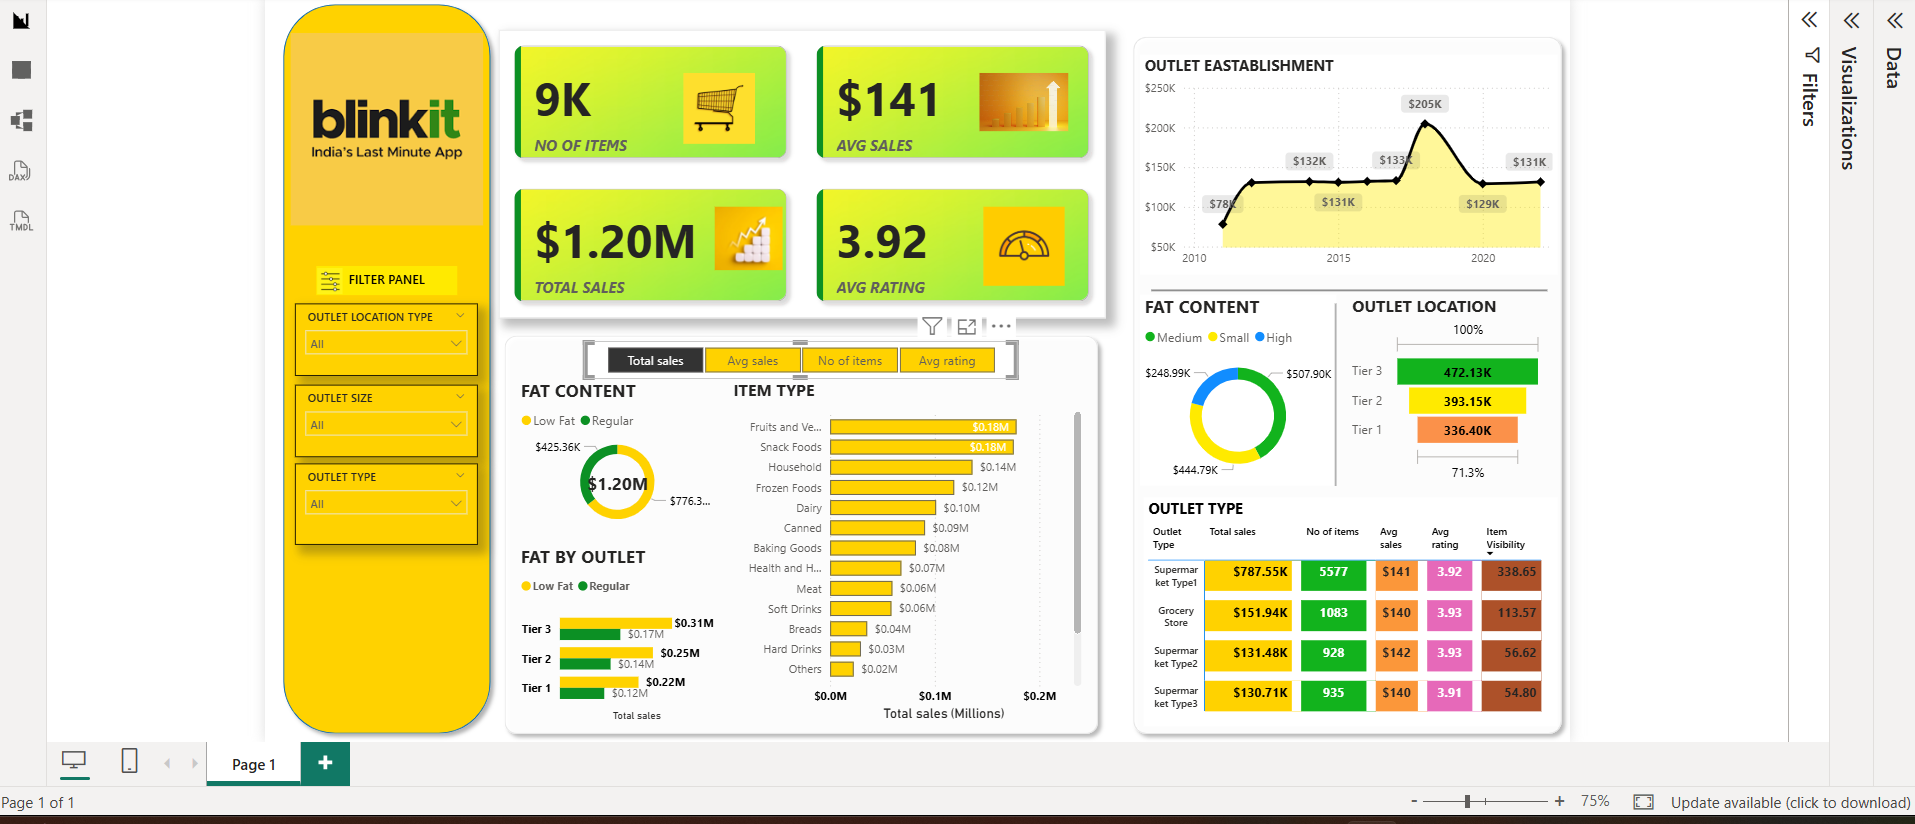

The dashboard page shown, as its layout file describes it:
{"tool":"powerbi","page":{"name":"Page 1","canvas":[1400,800],"ordinal":0},"visuals":[{"type":"shape","box":[10.5,0,240.1,800],"z":0},{"type":"image","box":[10.5,34.5,240.1,216.1],"z":1000},{"type":"cardVisual","fields":{"Data":["BlinkIT Grocery Data.No of items","BlinkIT Grocery Data.Avg sales","BlinkIT Grocery Data.Total sales","BlinkIT Grocery Data.Avg rating"]},"box":[250.6,36,651.4,309.2],"z":2000},{"type":"image","box":[475.9,221.2,85.8,77.7],"z":3000},{"type":"image","box":[426.2,78,121.6,85.5],"z":4000},{"type":"image","box":[760.9,78,105.1,72],"z":5000},{"type":"image","box":[735.4,220.6,156.1,94.6],"z":6000},{"type":"shape","box":[248,355.2,654.2,445],"z":7000},{"type":"donutChart","title":"FAT CONTENT","fields":{"Y":["BlinkIT Grocery Data.No of items"],"Category":["BlinkIT Grocery Data.Item Fat Content"]},"box":[269.4,410.2,217.2,167.6],"z":8000},{"type":"card","fields":{"Values":["BlinkIT Grocery Data.Total sales"]},"box":[323.1,494.6,111.3,60.3],"z":9000},{"type":"clusteredBarChart","title":"FAT BY OUTLET","fields":{"Y":["BlinkIT Grocery Data.No of items"],"Series":["BlinkIT Grocery Data.Item Fat Content"],"Category":["BlinkIT Grocery Data.Outlet Location Type"]},"box":[269.4,588.5,217.2,194.4],"z":10000},{"type":"barChart","title":"ITEM TYPE","fields":{"Y":["BlinkIT Grocery Data.No of items"],"Category":["BlinkIT Grocery Data.Item Type"]},"box":[497.3,410.2,383.4,372.7],"z":11000},{"type":"slicer","fields":{"Values":["metrics 3.metrics"]},"box":[341.8,370,465.1,40.2],"z":12000},{"type":"shape","box":[922.3,34.9,477.2,765.4],"z":13000},{"type":"lineChart","title":"OUTLET EASTABLISHMENT","fields":{"Category":["BlinkIT Grocery Data.Outlet Establishment Year"],"Y":["BlinkIT Grocery Data.Total sales"]},"box":[938.3,63,447.7,235.9],"z":14000},{"type":"shape","box":[950.4,166.2,424.9,298.9],"z":15000},{"type":"donutChart","title":"FAT CONTENT","fields":{"Y":["BlinkIT Grocery Data.No of items"],"Category":["BlinkIT Grocery Data.Outlet Size"]},"box":[938.3,320.4,210.5,205.1],"z":16000},{"type":"shape","box":[998.7,329.8,298.9,195.7],"z":17000},{"type":"funnel","title":"OUTLET LOCATION","fields":{"Category":["BlinkIT Grocery Data.Outlet Location Type"],"Y":["Sum(BlinkIT Grocery Data.Sales)"]},"box":[1160.9,320.4,214.5,205.1],"z":18000},{"type":"shape","box":[951.7,410.2,424.9,298.9],"z":19000},{"type":"pivotTable","title":"OUTLET TYPE","fields":{"Rows":["BlinkIT Grocery Data.Outlet Type"],"Values":["BlinkIT Grocery Data.Total sales","BlinkIT Grocery Data.No of items","BlinkIT Grocery Data.Avg sales","BlinkIT Grocery Data.Avg rating","Sum(BlinkIT Grocery Data.Item Visibility)"]},"box":[942.4,537.5,443.7,245.3],"z":20000},{"type":"slicer","fields":{"Values":["BlinkIT Grocery Data.Outlet Location Type"]},"box":[32.2,329.8,195.7,77.7],"z":21000},{"type":"slicer","fields":{"Values":["BlinkIT Grocery Data.Outlet Size"]},"box":[32.2,416.9,195.7,77.7],"z":22000},{"type":"slicer","fields":{"Values":["BlinkIT Grocery Data.Item Type"]},"box":[32.2,501.3,195.7,87.1],"z":23000},{"type":"textbox","box":[55,289.5,151.5,30.8],"z":24000},{"type":"image","box":[41.6,286.9,56.3,37.5],"z":25000}]}

Visuals, with their boxes on the page's 1400x800 design canvas (x1, y1, x2, y2). These are canvas units, not pixel positions in the 1915x824 screenshot, which may show the page scaled, cropped or inside an application window:
shape: 10/0/251/800
image: 10/34/251/251
cardVisual - BlinkIT Grocery Data.No of items x BlinkIT Grocery Data.Avg sales: 251/36/902/345
image: 476/221/562/299
image: 426/78/548/164
image: 761/78/866/150
image: 735/221/892/315
shape: 248/355/902/800
"FAT CONTENT" donutChart: 269/410/487/578
card - BlinkIT Grocery Data.Total sales: 323/495/434/555
"FAT BY OUTLET" clusteredBarChart: 269/588/487/783
"ITEM TYPE" barChart: 497/410/881/783
slicer - metrics 3.metrics: 342/370/807/410
shape: 922/35/1400/800
"OUTLET EASTABLISHMENT" lineChart: 938/63/1386/299
shape: 950/166/1375/465
"FAT CONTENT" donutChart: 938/320/1149/526
shape: 999/330/1298/526
"OUTLET LOCATION" funnel: 1161/320/1375/526
shape: 952/410/1377/709
"OUTLET TYPE" pivotTable: 942/538/1386/783
slicer - BlinkIT Grocery Data.Outlet Location Type: 32/330/228/408
slicer - BlinkIT Grocery Data.Outlet Size: 32/417/228/495
slicer - BlinkIT Grocery Data.Item Type: 32/501/228/588
textbox: 55/290/206/320
image: 42/287/98/324
